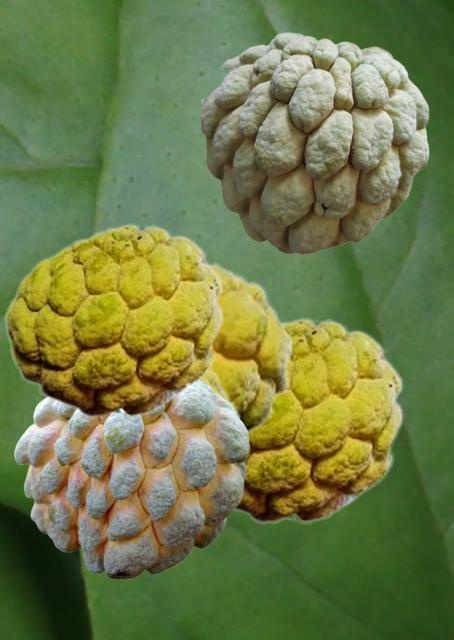atis: (199, 32, 428, 253), (14, 381, 248, 578), (3, 223, 223, 417), (233, 317, 403, 523), (210, 257, 293, 436), (203, 368, 240, 418)
